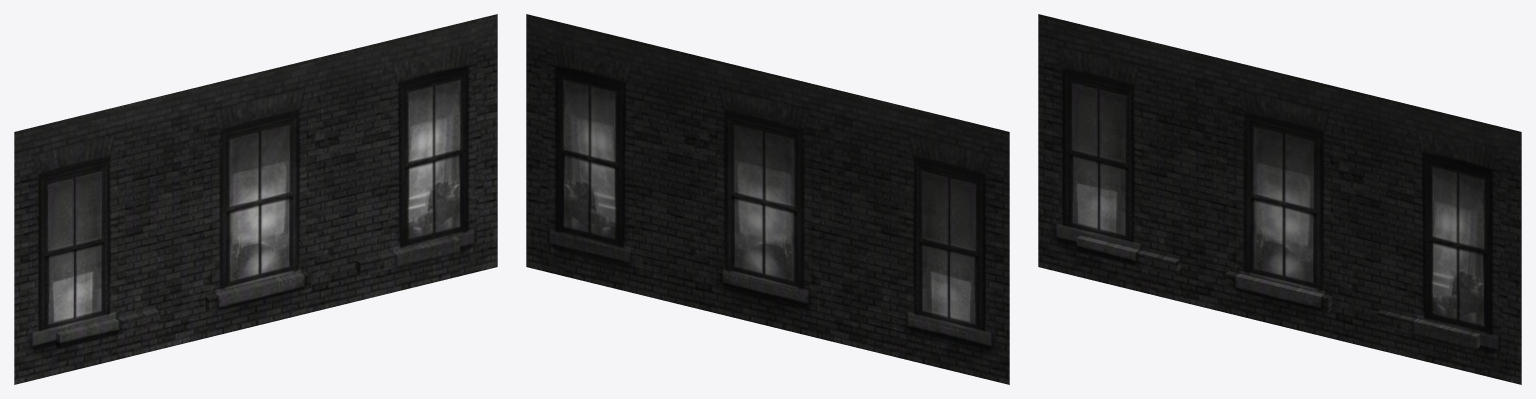
The model's file is floor.obj.
3 views of the same model, side by side, from view 1: azimuth 30°, elevation 25°; view 2: azimuth 150°, elevation 25°; view 3: azimuth 330°, elevation 25° (orthographic).
Visible parts, largest first — view 1: group; view 2: group; view 3: group.
Boxes of the visible parts, bbox=[...] form: group: bbox=[14, 14, 497, 384]; group: bbox=[526, 14, 1009, 384]; group: bbox=[1038, 14, 1521, 384].
Bounding box in the file's own units: 10 × 5 × 0.14.
